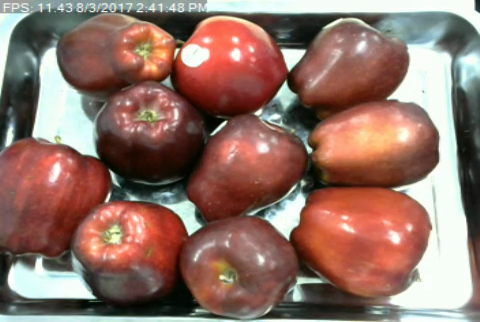Apple: (288, 185, 433, 298), (185, 110, 309, 224), (0, 133, 112, 259), (174, 213, 301, 322), (167, 12, 289, 122), (286, 14, 412, 119), (70, 196, 192, 304), (92, 77, 212, 185), (306, 98, 442, 189), (52, 8, 181, 101)
